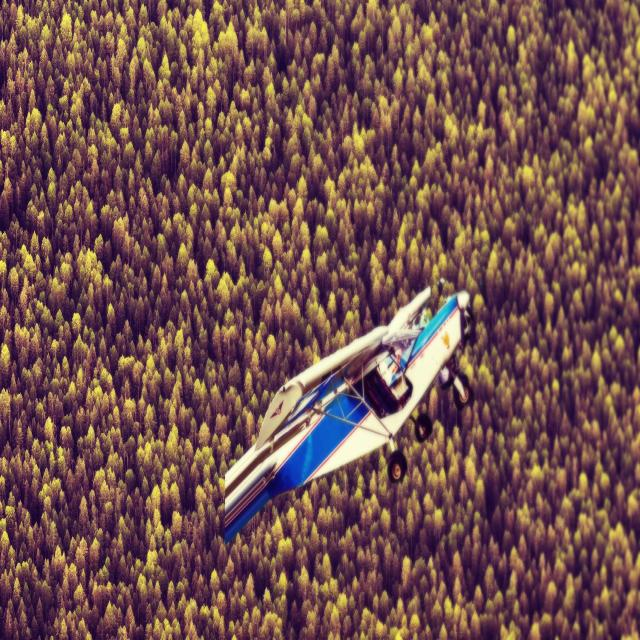airplane: (222, 280, 473, 545)
